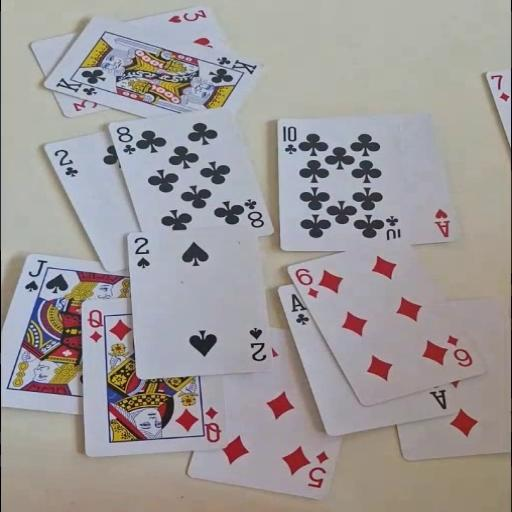10: (281, 124, 299, 155)
2: (50, 147, 80, 178), (246, 326, 268, 362), (130, 235, 152, 269)
3: (165, 7, 208, 24)
5: (304, 449, 331, 489)
6: (444, 332, 475, 368), (292, 266, 320, 299)
7: (488, 72, 510, 102)
8: (241, 196, 266, 229), (114, 124, 136, 155)
A: (432, 206, 452, 238)
J: (21, 258, 49, 292)
K: (53, 75, 101, 97)
Q: (200, 404, 222, 444), (84, 308, 104, 343)
